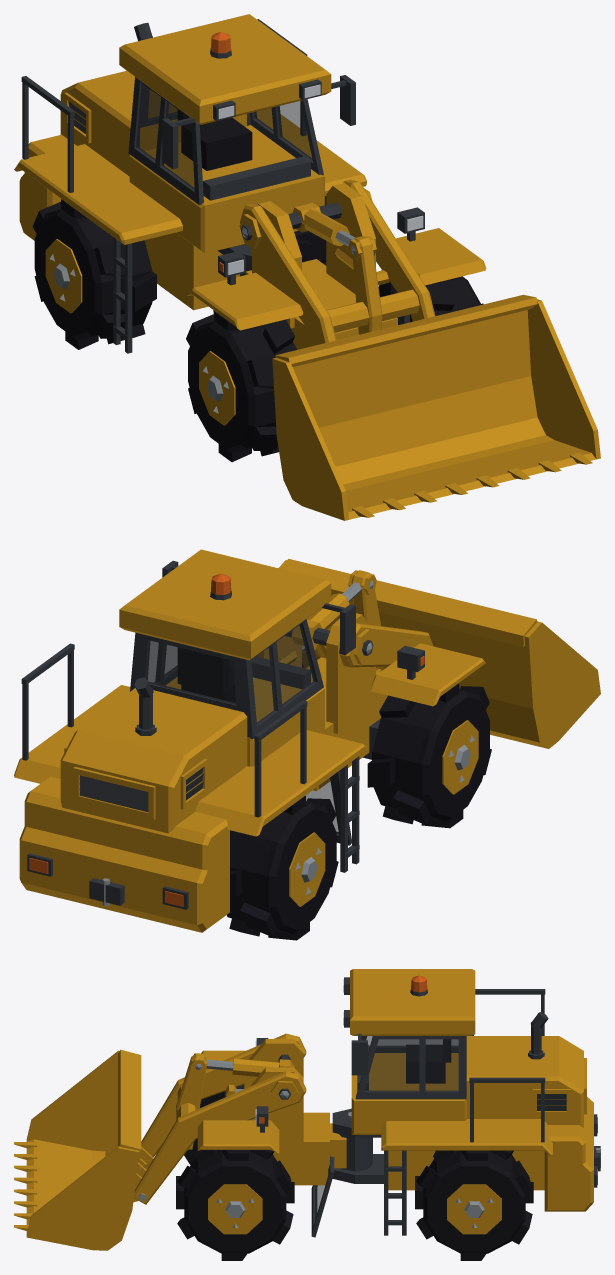
The model's file is wheeled-loader.glb.
3 renders of one model, top to bottom at view 1: azimuth 30°, elevation 25°; view 2: azimuth 150°, elevation 25°; view 3: azimuth 270°, elevation 25°, orthographic. The views are drawn at different scales.
Visible parts, largest first — view 1: rear-unit, glazing; view 2: rear-unit, glazing; view 3: rear-unit, glazing.
Boxes of the visible parts, left/top/right/bottom form: rear-unit: left=14, top=14, right=600, bottom=520; glazing: left=136, top=83, right=312, bottom=188; rear-unit: left=14, top=549, right=600, bottom=940; glazing: left=146, top=624, right=338, bottom=833; rear-unit: left=14, top=969, right=600, bottom=1260; glazing: left=315, top=1036, right=458, bottom=1219.
Size of the model in its own units: 2.8 by 3.23 by 7.12.
